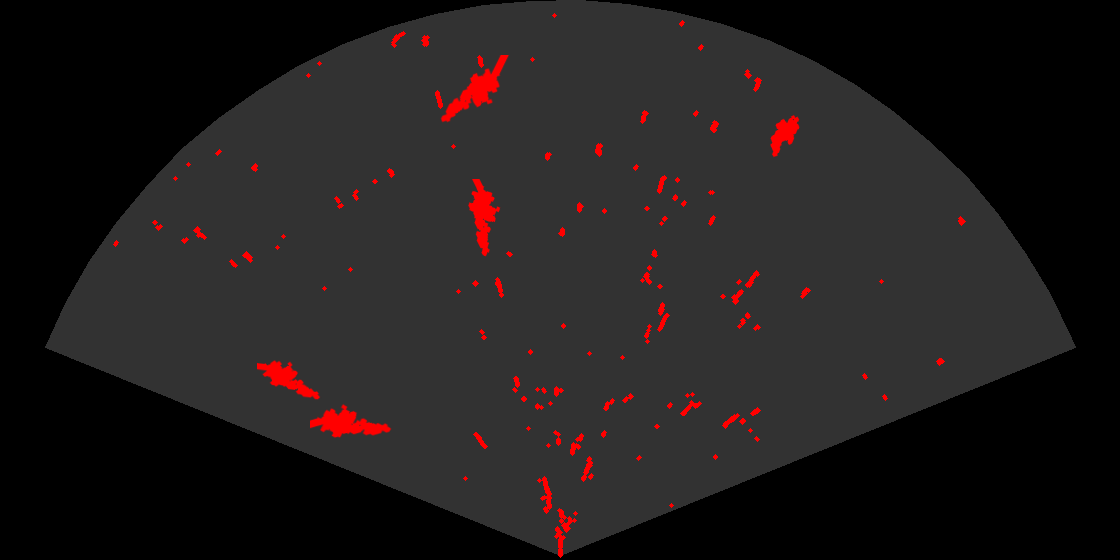AUV: (769, 113, 801, 158)
frogman: (439, 55, 511, 124), (310, 402, 393, 440), (467, 179, 502, 258), (257, 359, 322, 401)
